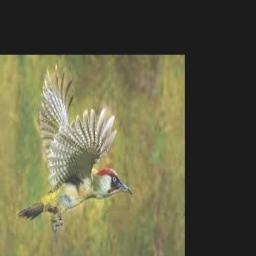Woodpecker: (16, 64, 133, 231)
